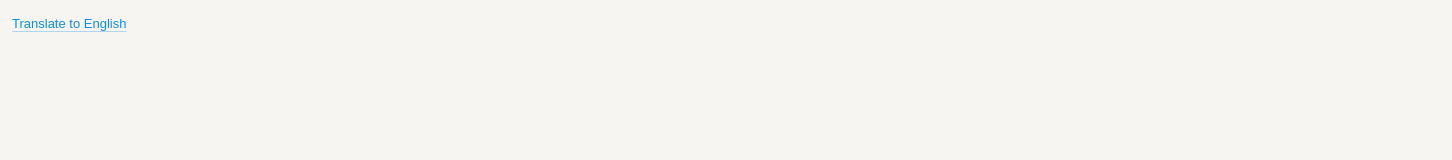
ContentTranslation › shows failure state with retry when the service fails
The image size is (1452, 160).
Click the button "Translate to English": (69, 24) [12,10,126,39]
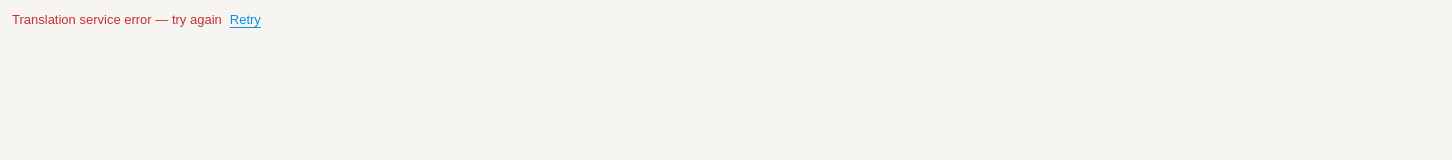
Expected: the text "Translation service error — try again" is shown, [12,10,222,31]
Expected: the button "Retry" is shown
Click the button "Retry": (245, 20) [230,10,261,31]
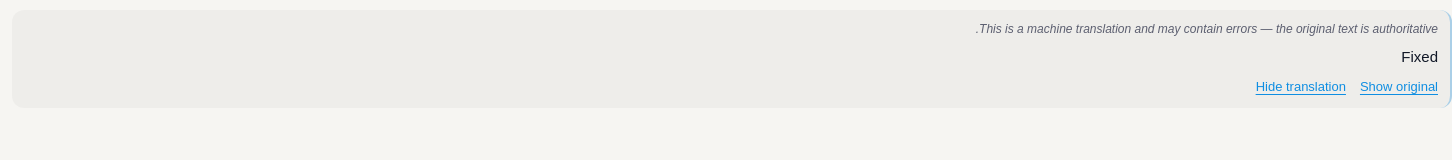
Expected: the text "Fixed" is shown, [1401,48,1438,65]
